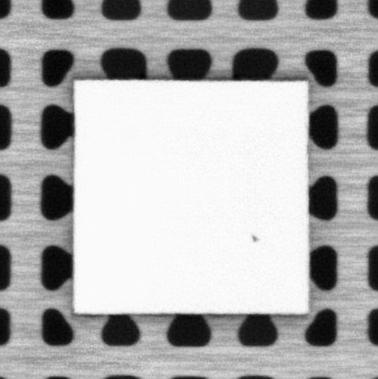DIE_INK: (248, 233, 260, 243)
